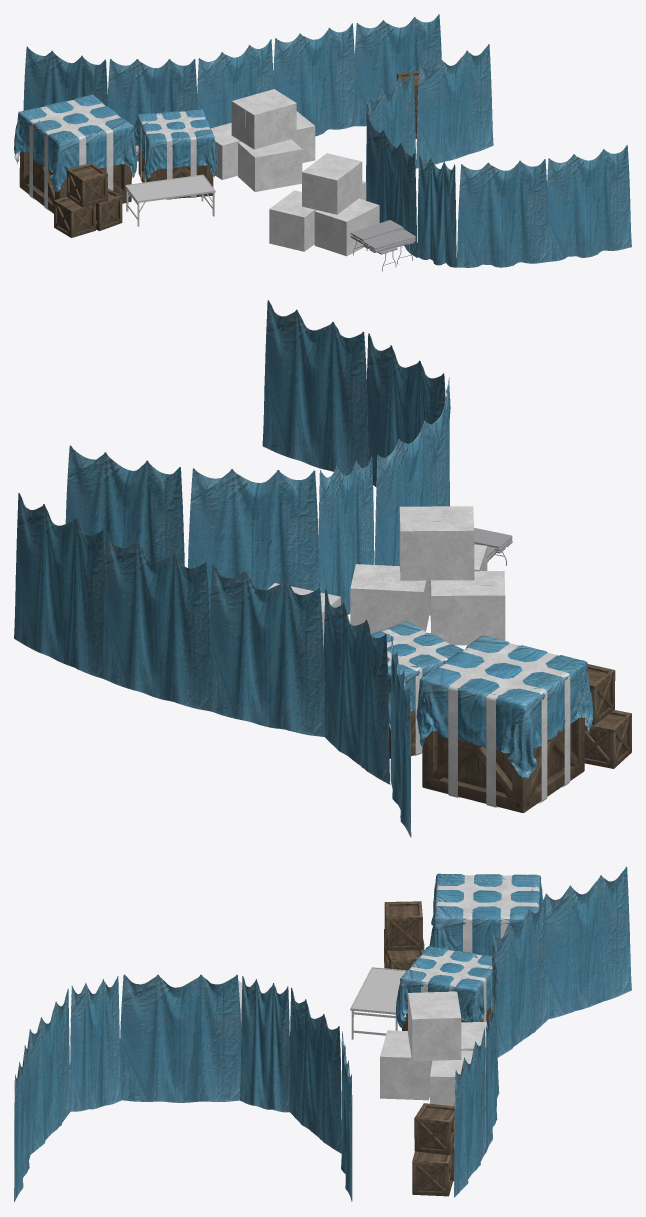
File: 1ST_LEVEl_PROPS_03.fbx
The picture shows the model from 3 angles, top to bottom: view 1: azimuth 30°, elevation 25°; view 2: azimuth 150°, elevation 25°; view 3: azimuth 270°, elevation 25°; orthographic projection. The views are drawn at different scales.
Parts seen in each view (by area): view 1: 1ST LEVEL PROPS 03; view 2: 1ST LEVEL PROPS 03; view 3: 1ST LEVEL PROPS 03.
Part boxes in pixels (x1=…): 1ST LEVEL PROPS 03: x1=14, y1=14, x2=631, y2=271; 1ST LEVEL PROPS 03: x1=14, y1=300, x2=631, y2=837; 1ST LEVEL PROPS 03: x1=14, y1=866, x2=631, y2=1201.
Size of the model in its own units: 5008 by 1225 by 5343.
